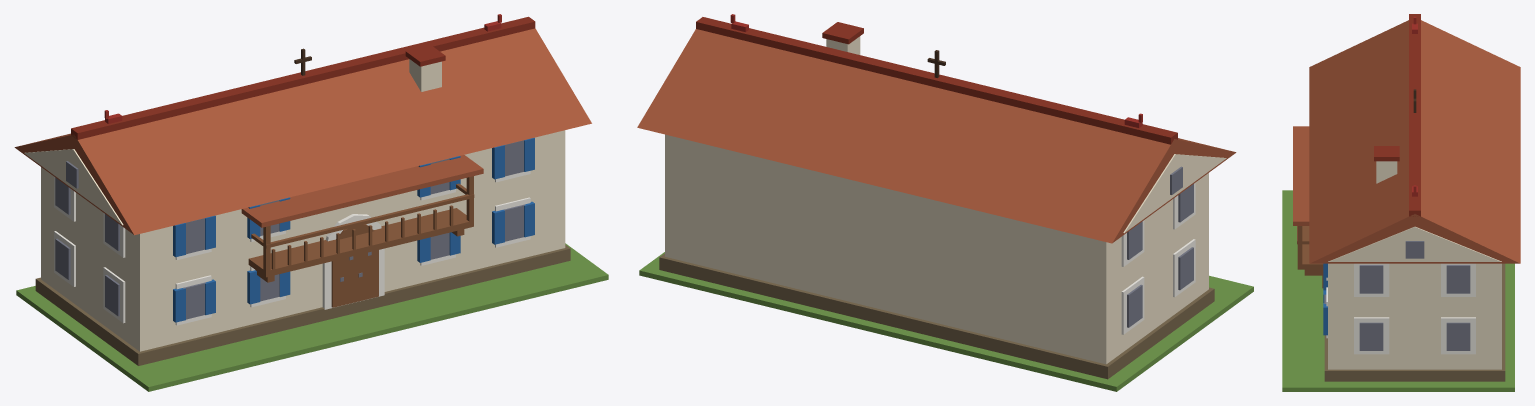
The model's file is house-2x1-2f-andean-a.glb.
3 views of the same model, side by side, from view 1: azimuth 30°, elevation 25°; view 2: azimuth 150°, elevation 25°; view 3: azimuth 270°, elevation 25° (orthographic). The views are drawn at different scales.
Visible parts, largest first — view 1: house-2x1-2f-andean-a; view 2: house-2x1-2f-andean-a; view 3: house-2x1-2f-andean-a.
Boxes of the visible parts, x1,y1,x2,y2 form: house-2x1-2f-andean-a: (14, 14, 608, 391); house-2x1-2f-andean-a: (637, 14, 1253, 391); house-2x1-2f-andean-a: (1282, 14, 1520, 391).
Bounding box in the file's own units: 2.01 × 0.955 × 1.01.
Materials: 1 (1 with a texture image).
